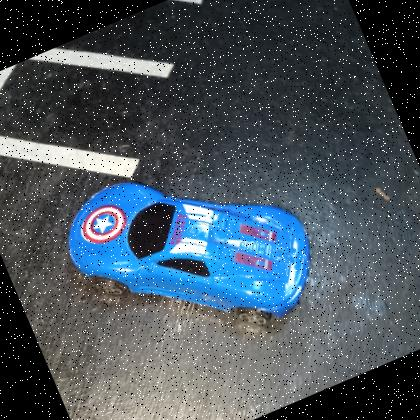Car: (68, 183, 312, 318)
